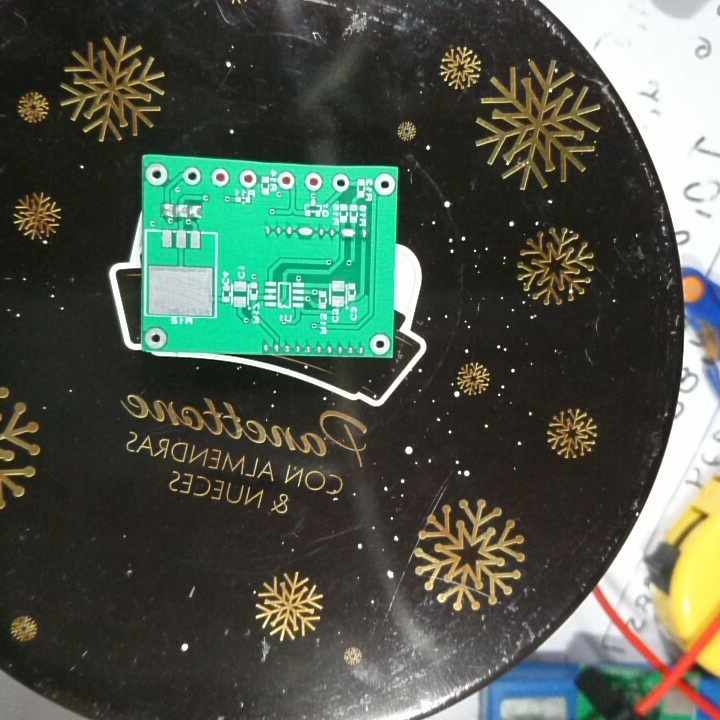F: (143, 160, 169, 185), (370, 171, 396, 196), (144, 326, 170, 350), (369, 333, 392, 356), (237, 166, 259, 189), (208, 166, 230, 188), (181, 166, 203, 187), (302, 170, 322, 193), (276, 169, 296, 190), (331, 171, 349, 194)
P: (295, 224, 314, 239), (338, 226, 355, 241)
